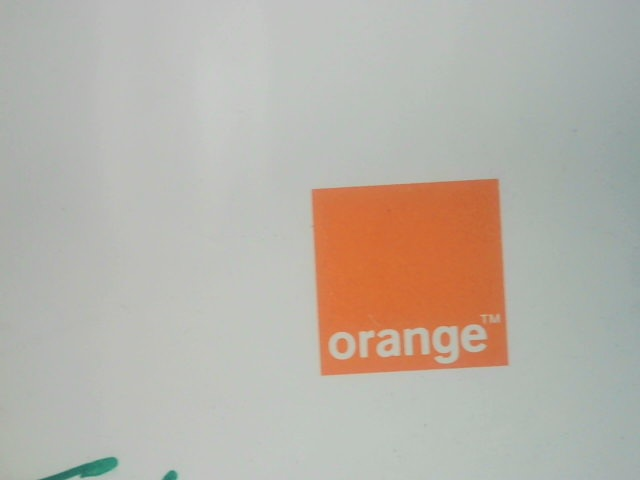AR_Orange: (300, 174, 516, 377)
